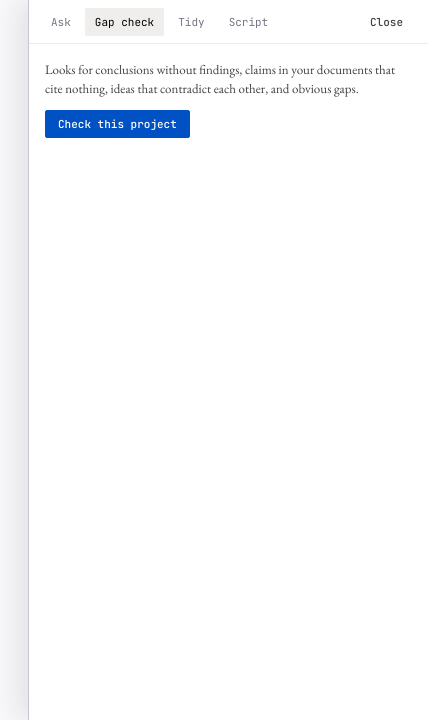
Test case: AI panel › shows gap check issues, and the plan it needs on Free
This screenshot has width=428, height=720.
Click the button with test id "ai-review-run" at point(117, 124), box [45, 110, 190, 138]
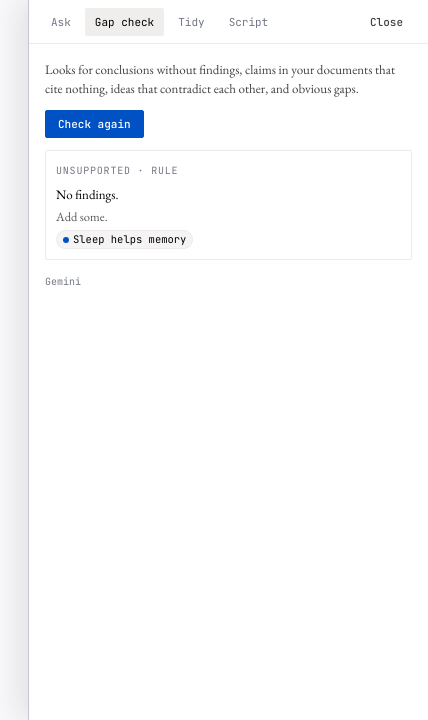
expect the text "No findings." is shown: met, box [56, 186, 118, 203]
expect the text "Unsupported · rule" is shown: met, box [56, 164, 178, 177]
